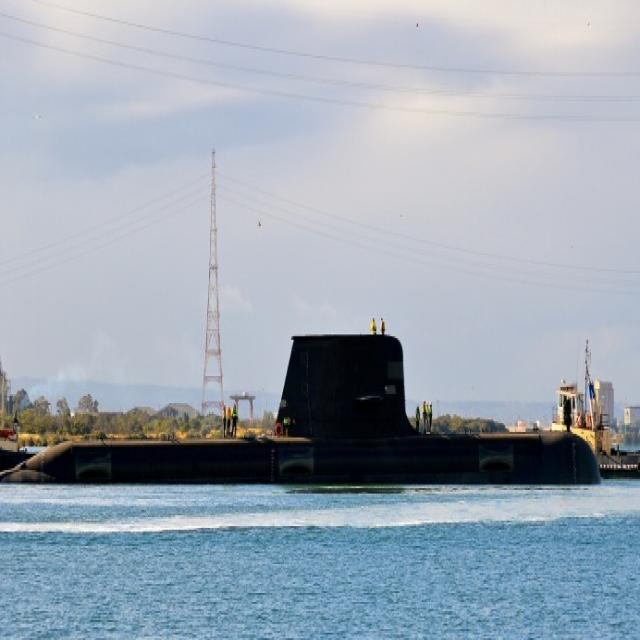submarine: (1, 334, 640, 478)
